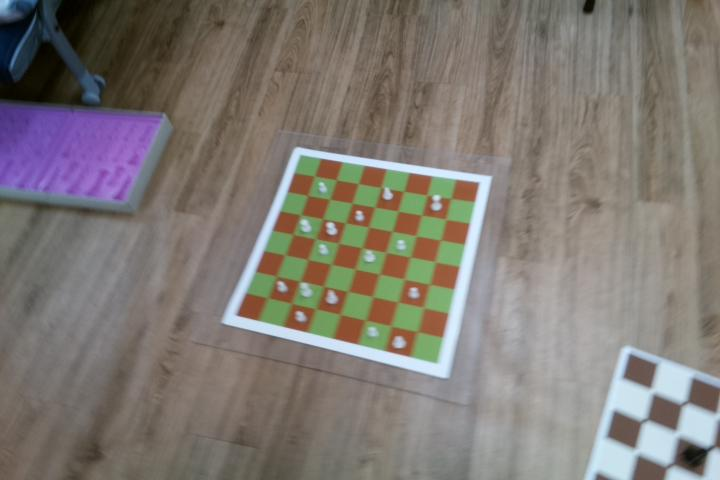chessboard-detect: (236, 154, 481, 364)
